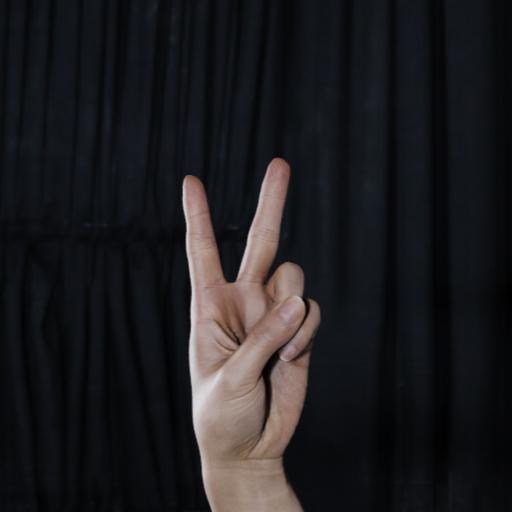V: (171, 148, 324, 471)
